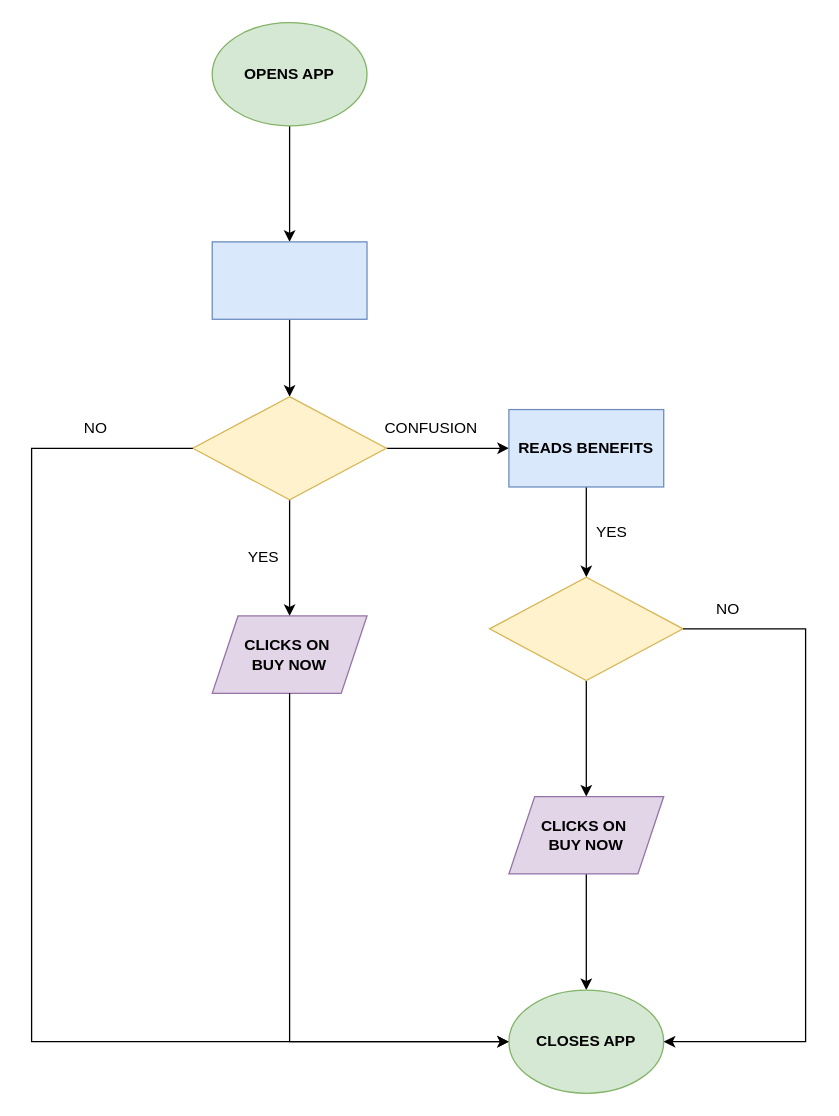
This 839x1116 diagram has some shape labels left out. The shapes that lost their labels are listed below. From the top down, each one's centre as x and y in pixels, then its label:
At point (289, 280): "VIEW PRODUCTS".
At point (289, 447): "MAKES DECISION".
At point (585, 628): "AGAIN MAKES DECISION".
